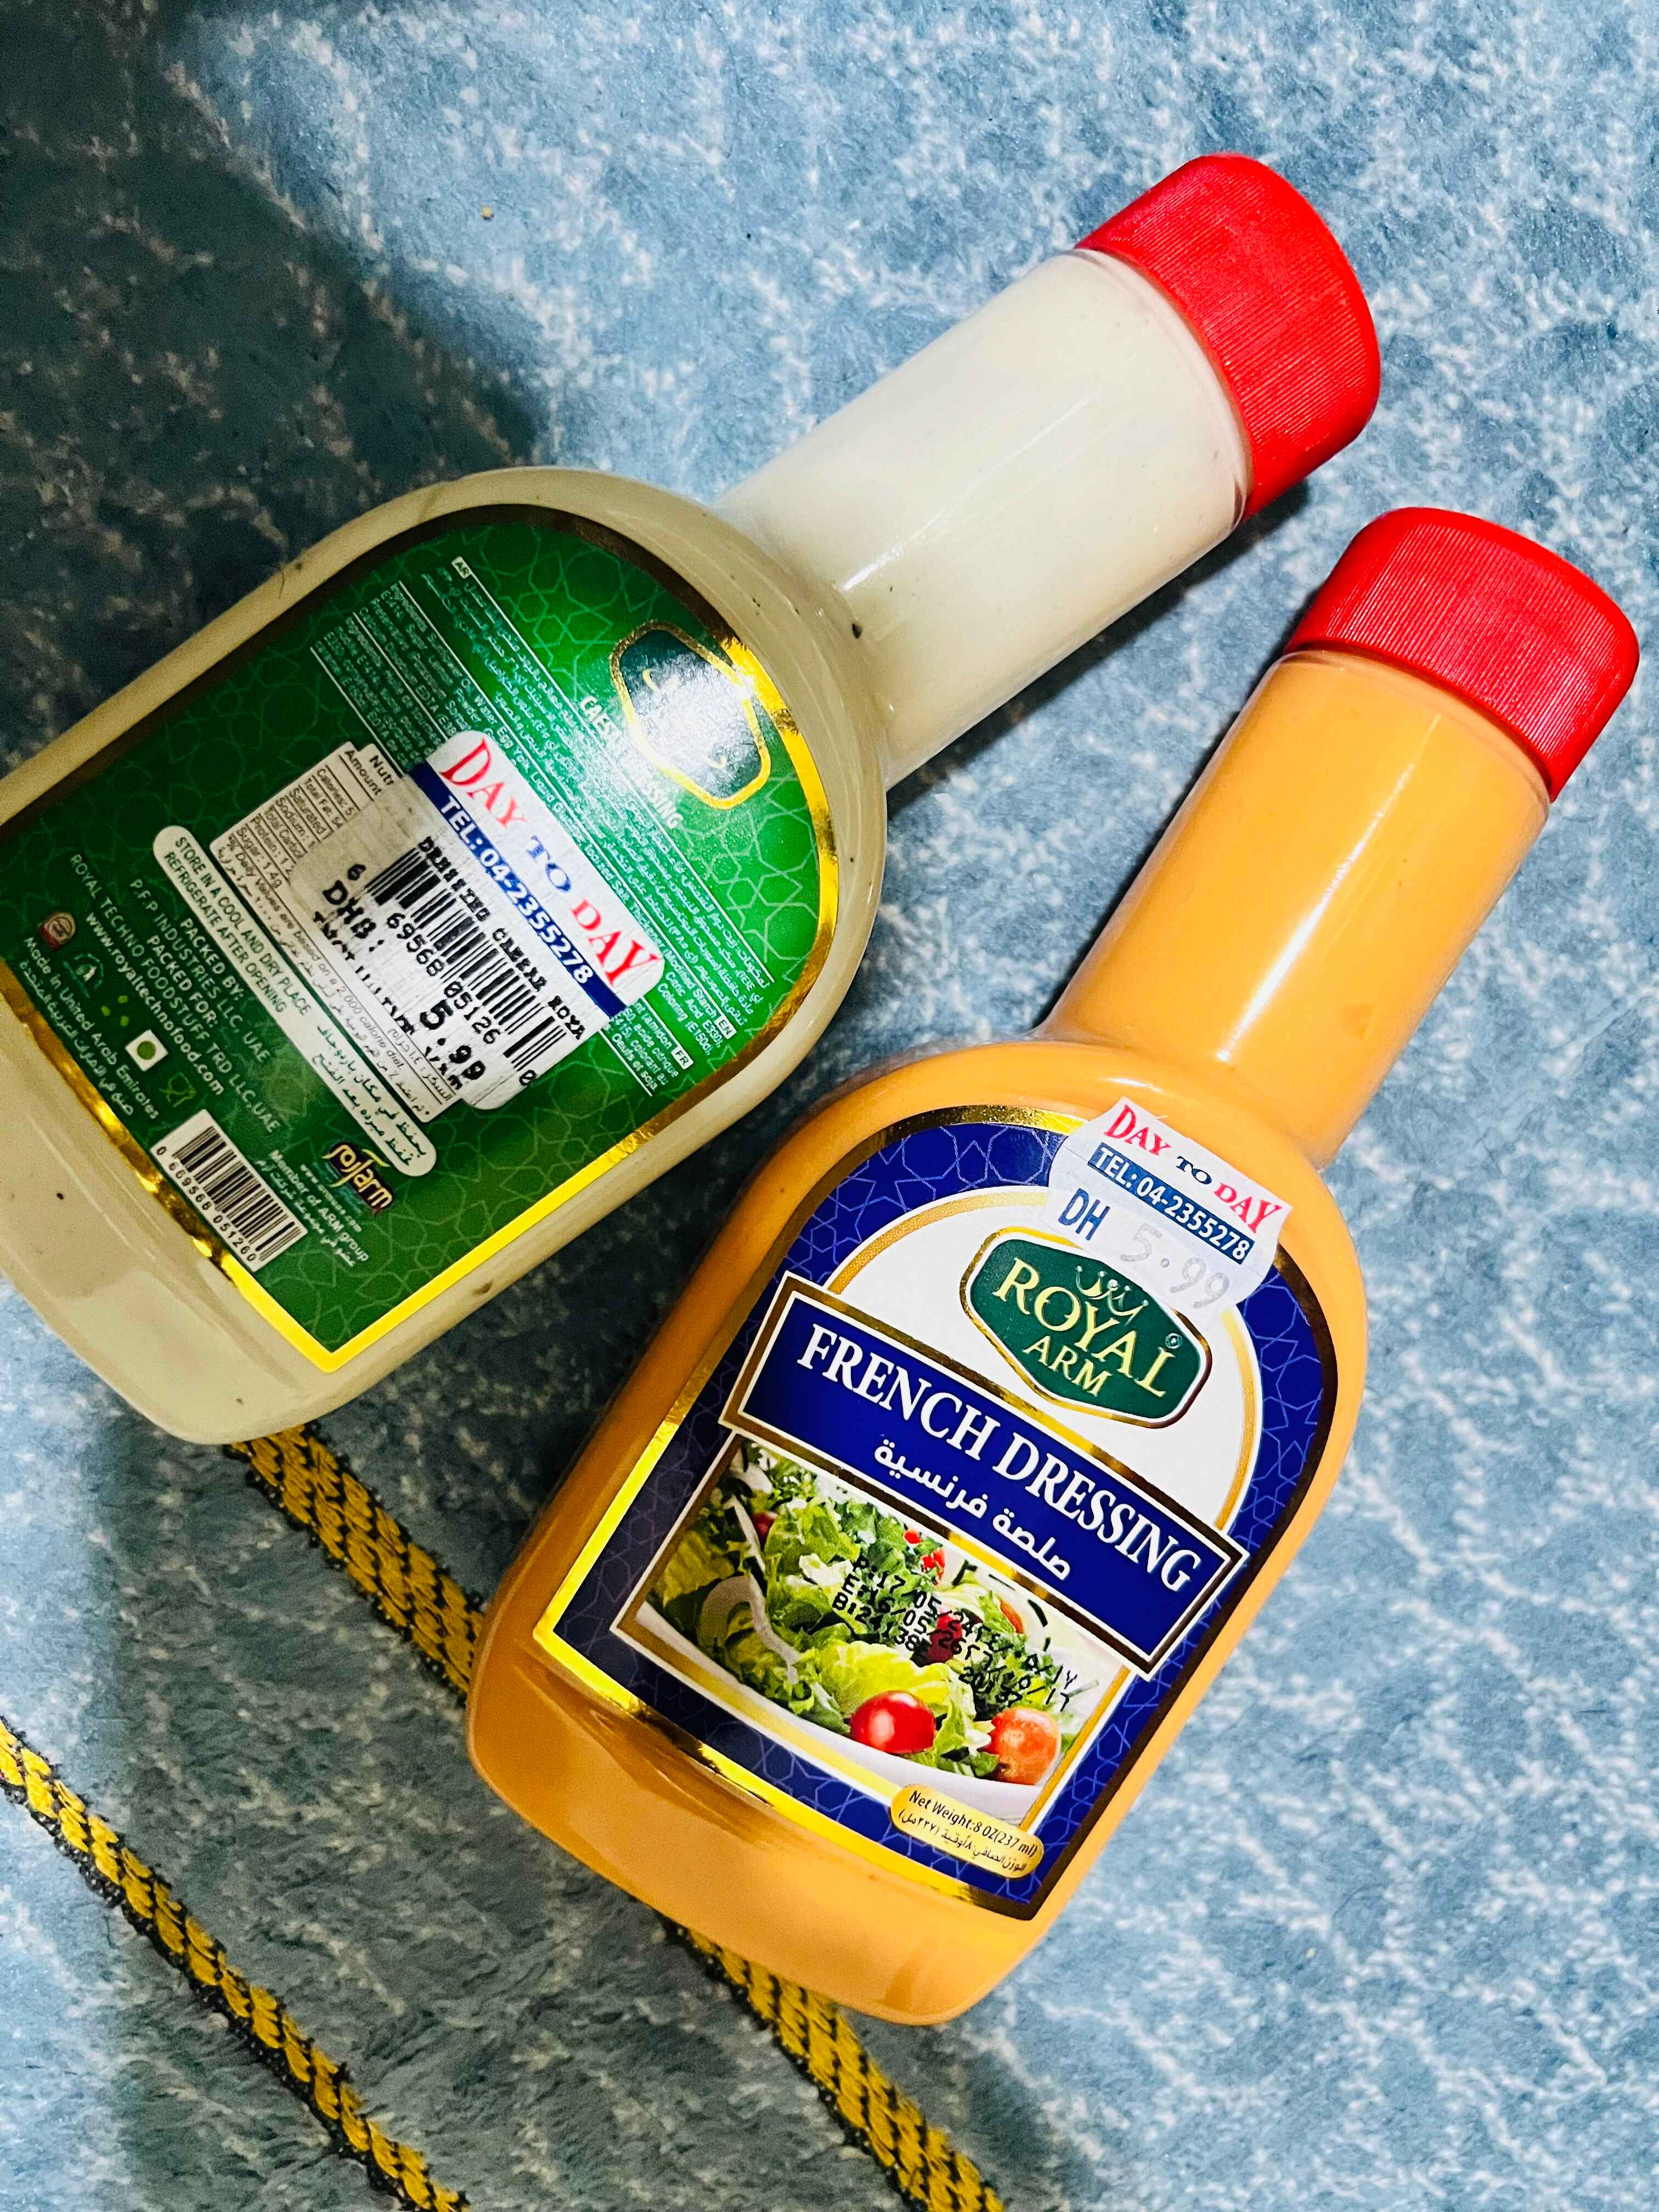PriceTagBig: (293, 742, 674, 1137)
PriceTagSmall: (1044, 1096, 1295, 1315)
